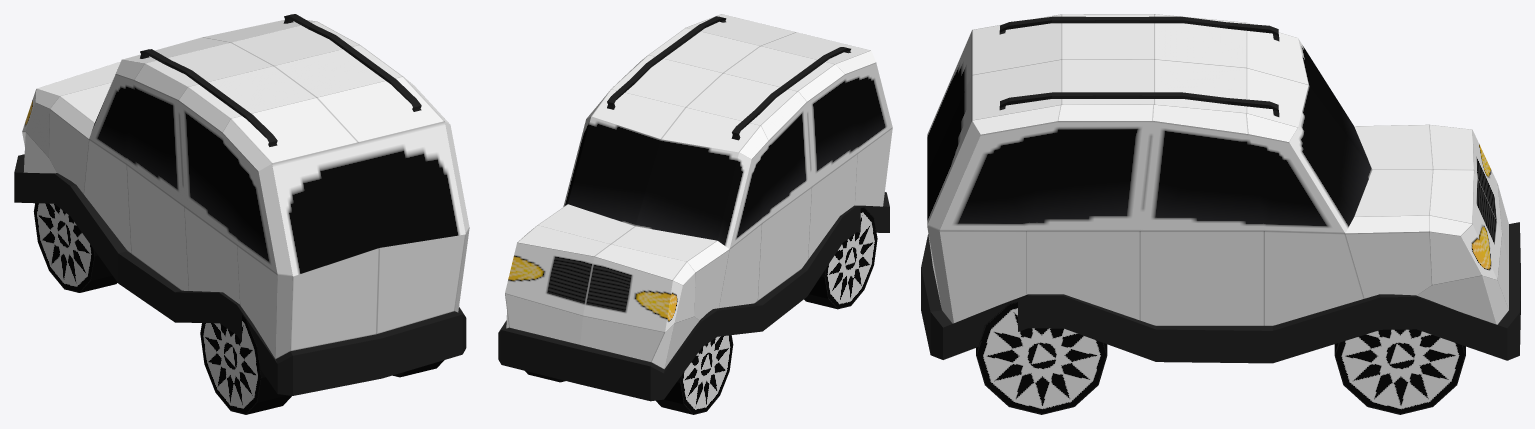
File: player car.glb
The picture shows the model from 3 angles, left to right: view 1: azimuth 30°, elevation 25°; view 2: azimuth 150°, elevation 25°; view 3: azimuth 270°, elevation 25°; orthographic projection. The views are drawn at different scales.
Visible parts, largest first — view 1: Body, BLWheel, FLWheel; view 2: Body, BLWheel, FLWheel; view 3: Body, BRWheel, FRWheel.
Part boxes in pixels (x1=…): Body: x1=14, y1=14, x2=469, y2=395; BLWheel: x1=200, y1=314, x2=291, y2=414; FLWheel: x1=33, y1=203, x2=117, y2=292; Body: x1=498, y1=14, x2=892, y2=401; BLWheel: x1=804, y1=207, x2=877, y2=309; FLWheel: x1=656, y1=335, x2=733, y2=414; Body: x1=921, y1=14, x2=1520, y2=363; BRWheel: x1=976, y1=301, x2=1107, y2=414; FRWheel: x1=1334, y1=329, x2=1465, y2=414.
Size of the model in its own units: 2.09 by 2.85 by 5.02.
Materials: 3 (2 with a texture image).
